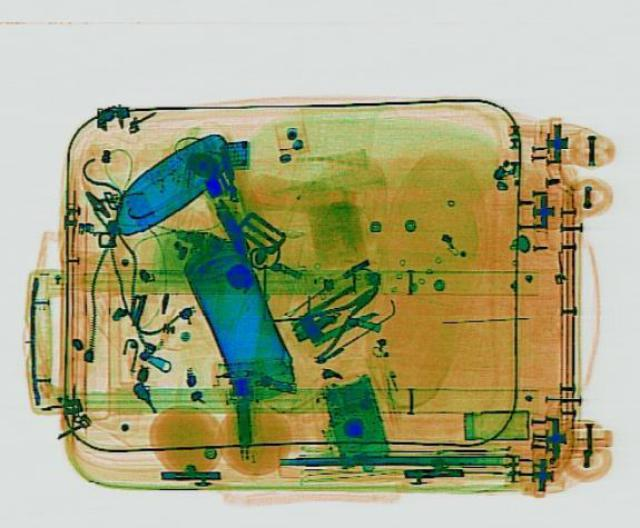Pliers: (279, 270, 395, 358)
